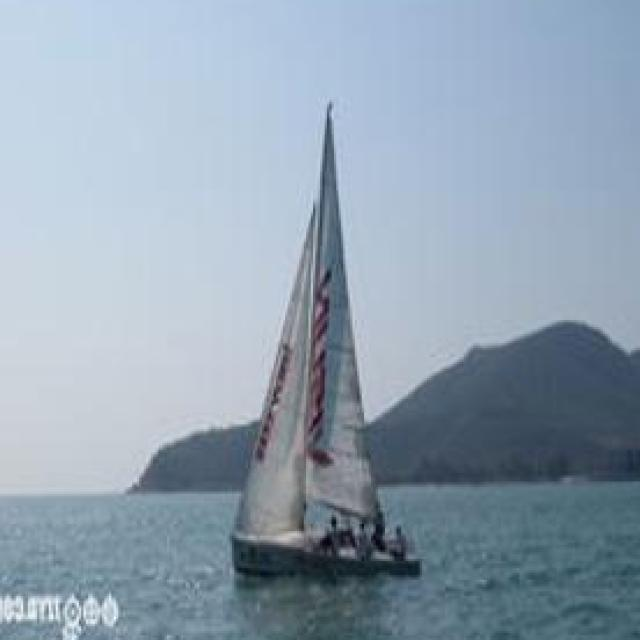sailboat: (230, 98, 423, 580)
